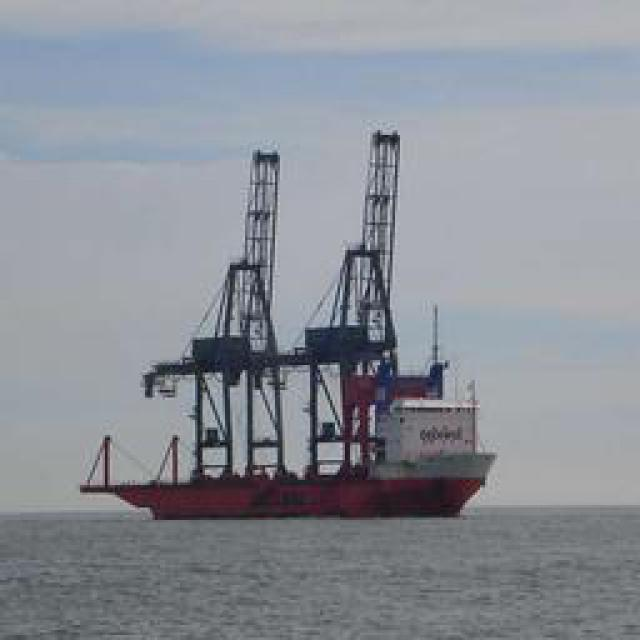Ship: (96, 116, 504, 519)
